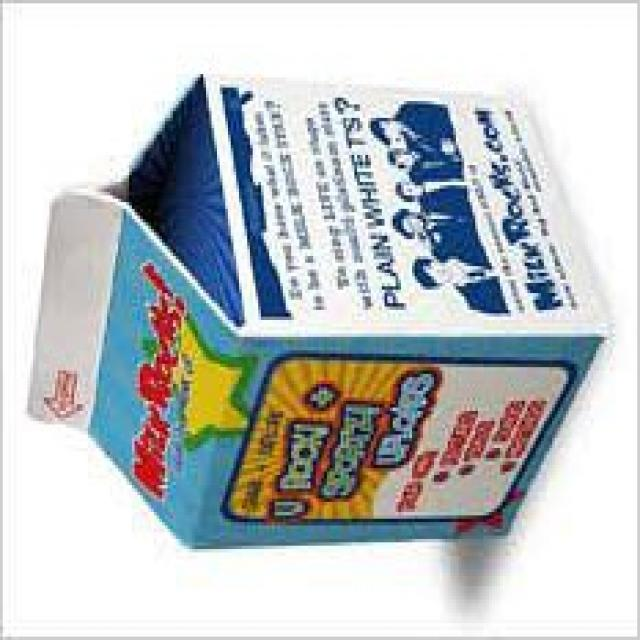non_white_jug: (31, 74, 602, 556)
